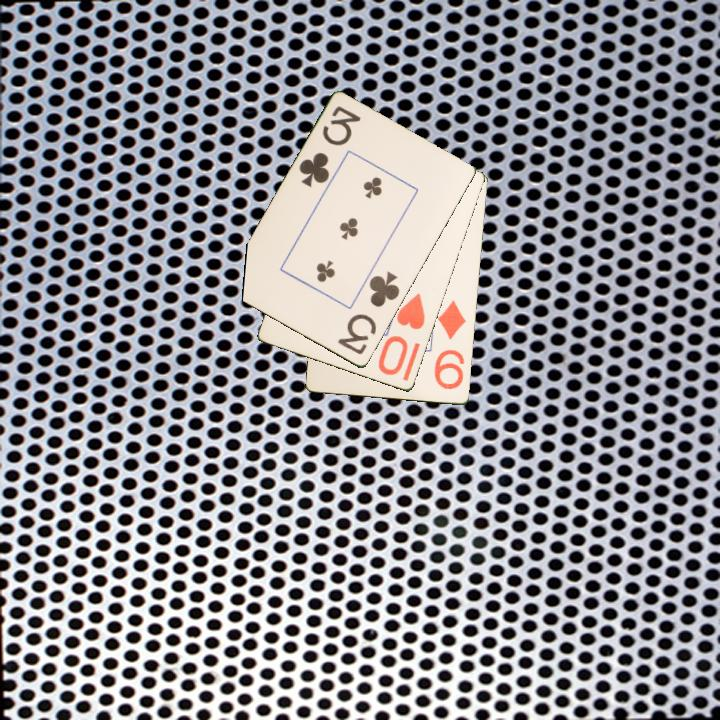10h: (375, 289, 428, 379)
3c: (334, 268, 403, 358), (295, 102, 364, 191)
9d: (431, 297, 469, 393)
